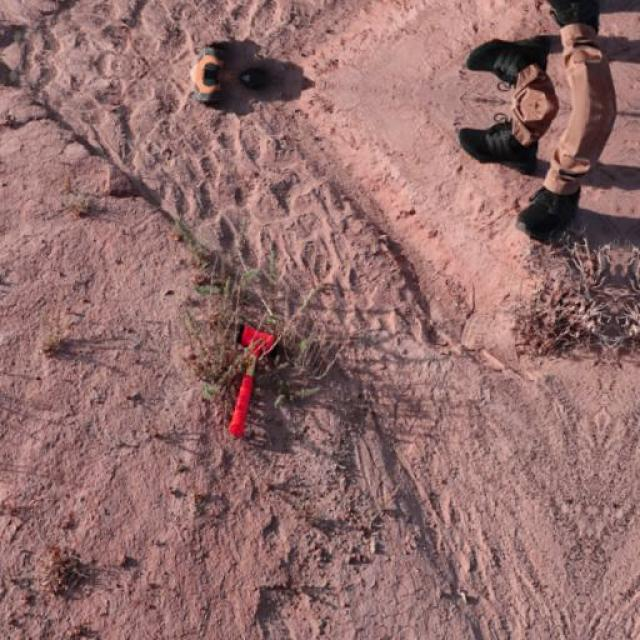mallet: (228, 322, 278, 438)
